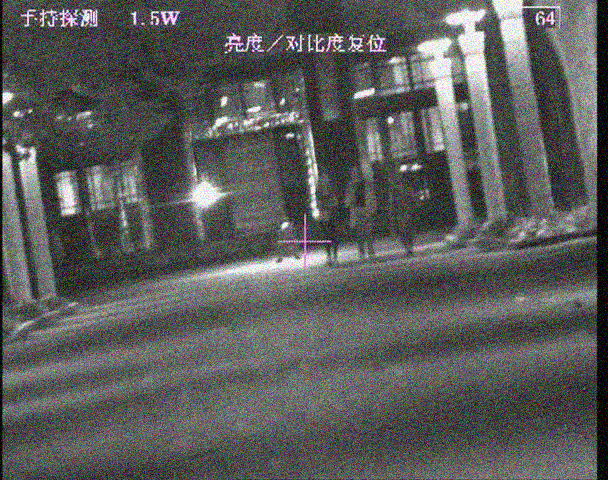my: (279, 220, 290, 230)
